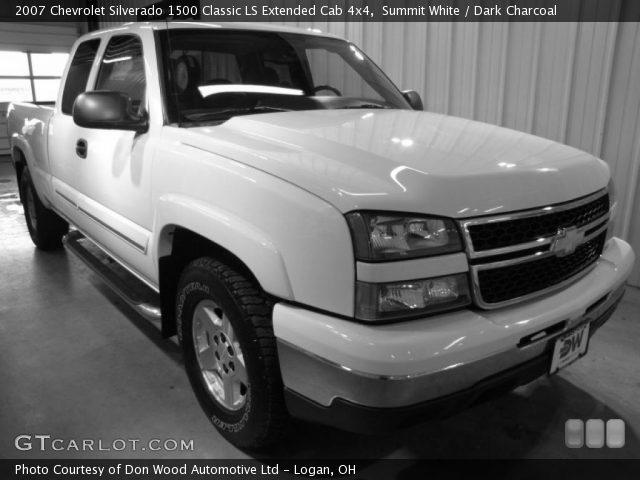car: (4, 21, 640, 459)
